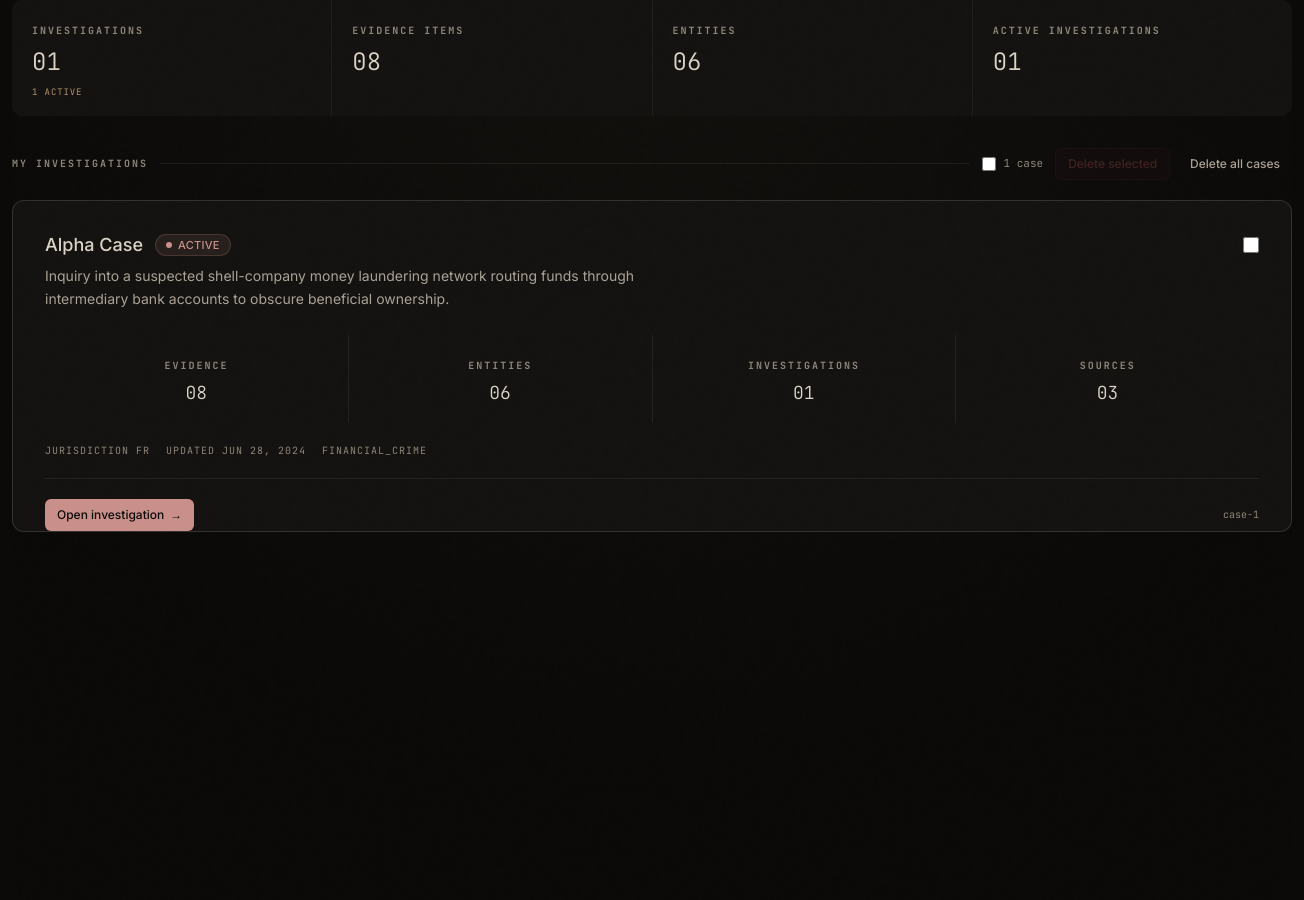
it: CaseList › surfaces a delete failure and keeps the confirm bar armed for retry
This screenshot has width=1304, height=900.
Expected: the heading "Alpha Case" is shown, [45,232,143,257]
Click the button "Delete all cases" at coordinates (1235, 164), box [1178,148,1292,180]
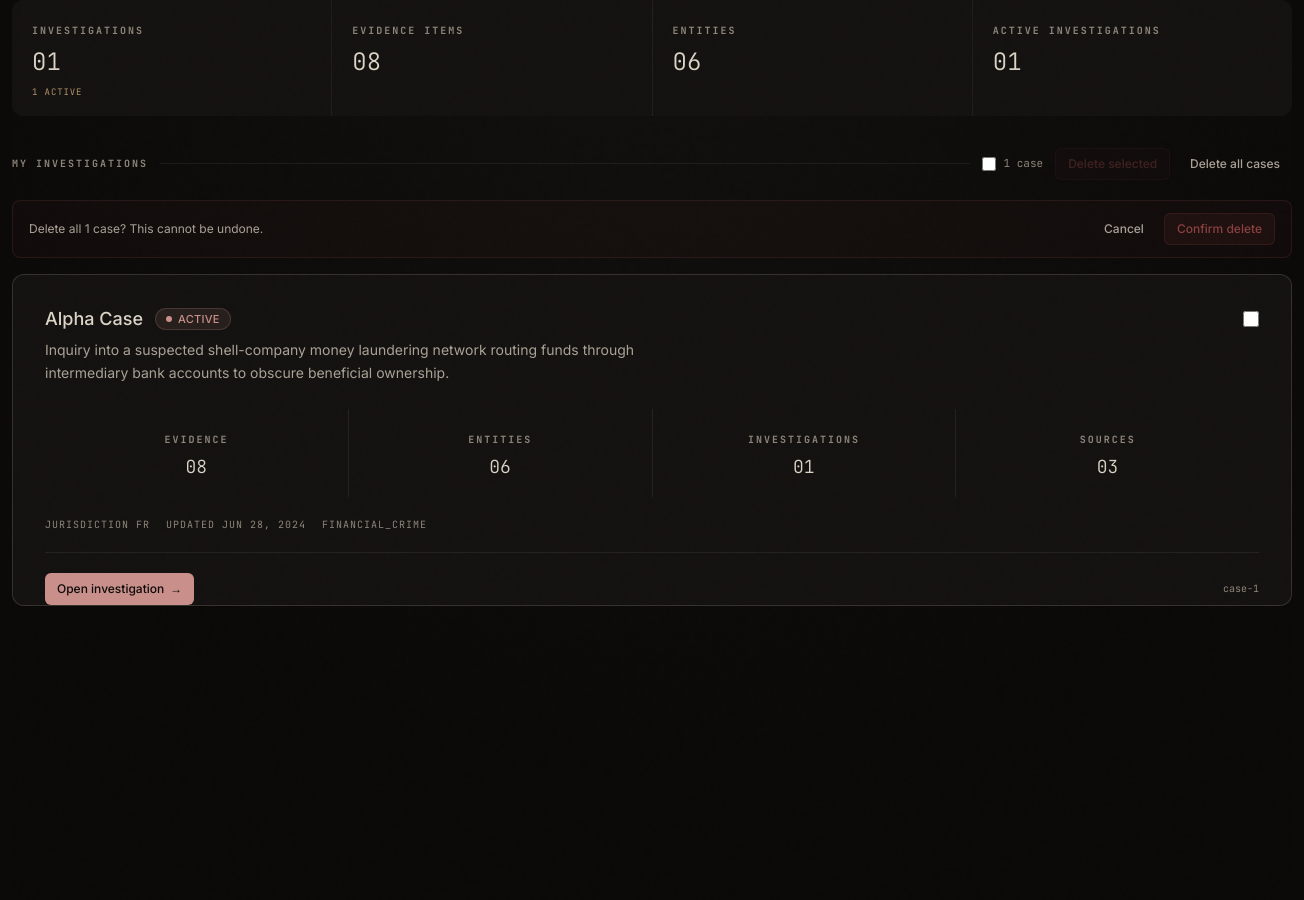
Click the button "Confirm delete" at coordinates (1219, 228), box [1164,212,1275,244]
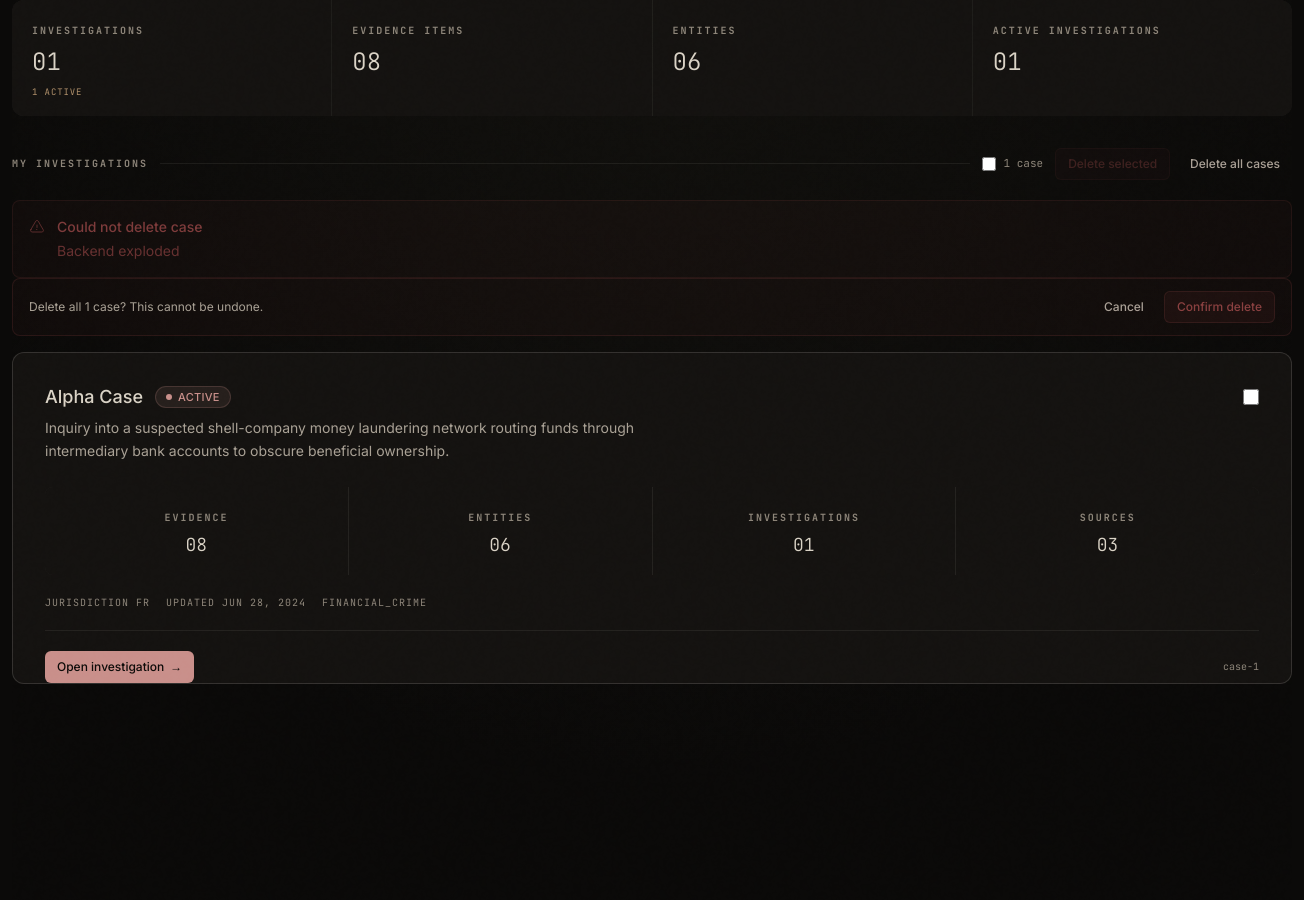
Result: the button "Confirm delete" is shown at [1164,290,1275,322]
Result: the text "Backend exploded" is shown at [57,242,180,258]
